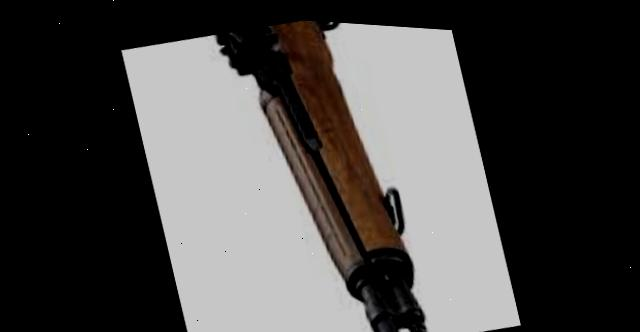rifle: (213, 11, 446, 332)
